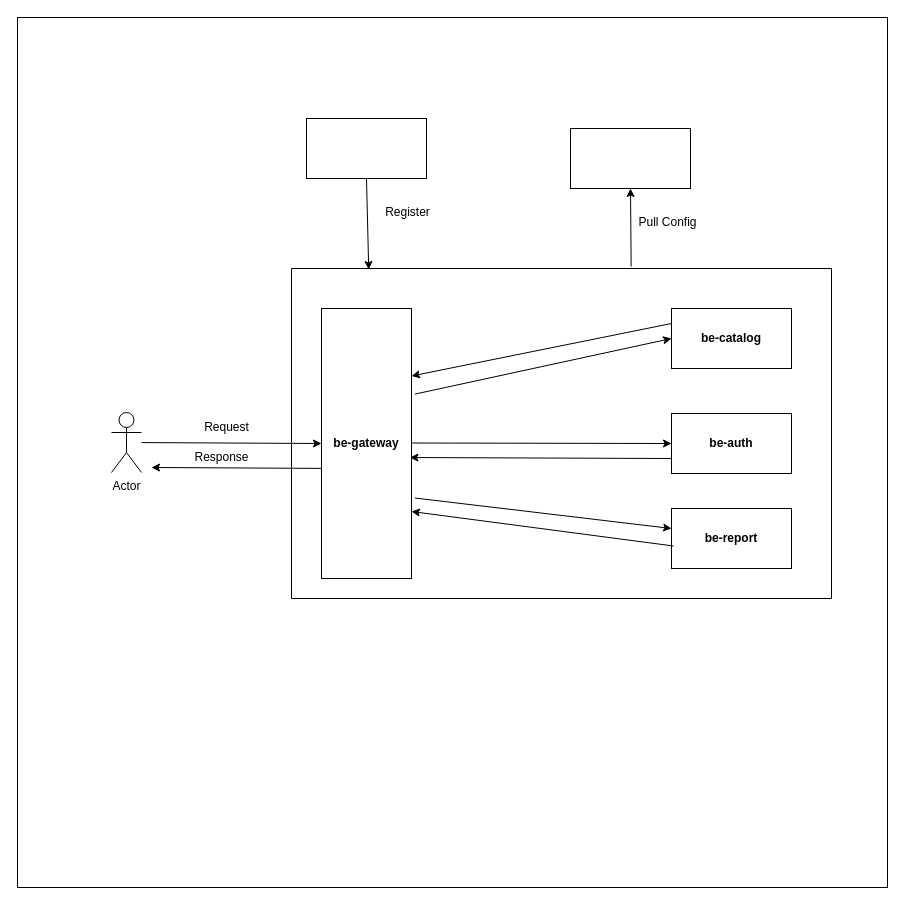
Some shapes in this 905 by 905 pixel diagram are drawn without their labels. Here are the shapes that lost their labels. From the top down, the centre of each, then its label:
the point at 366,148: be-discovery
the point at 630,158: be-server-config
